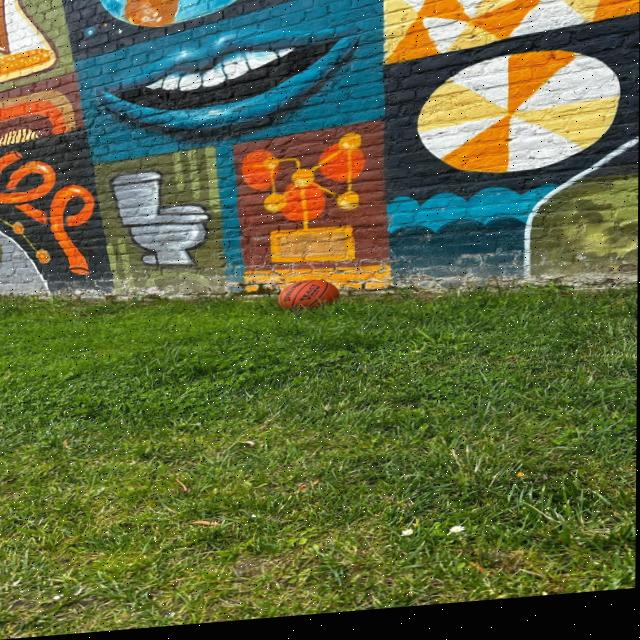Basketball: (278, 276, 341, 310)
